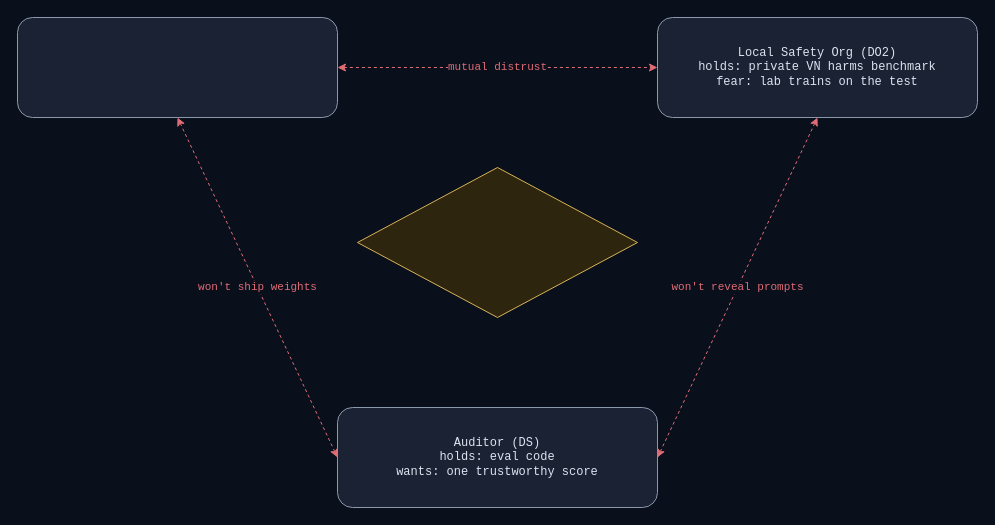
This 995x525 diagram has some shape labels left out. Here are the shapes that lost their labels. From the top down, the centre of each, then its label:
point (177, 67): AI Lab (DO1) holds: private model weights fear: weights leak
point (497, 242): Where can three secrets meet?
